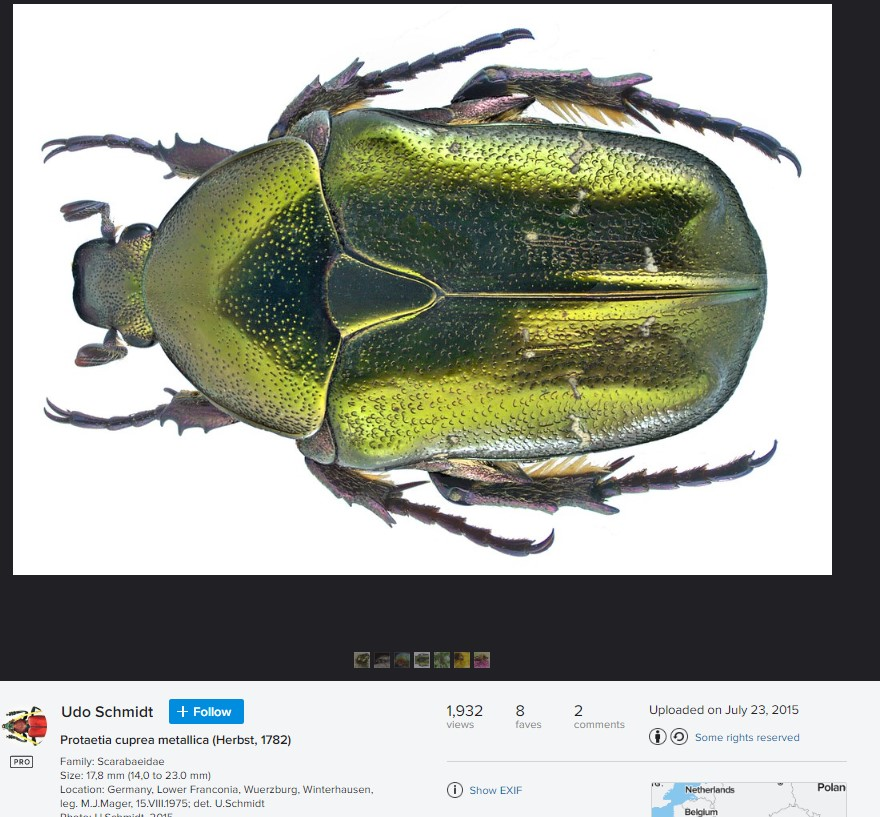Protaetia_metallica: (30, 24, 806, 567)
